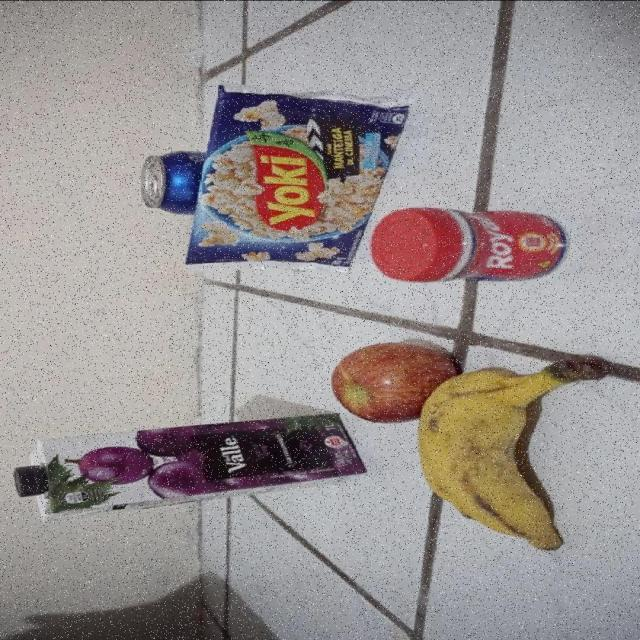Apple: (331, 341, 460, 425)
Banana: (416, 356, 614, 552)
Popcorn: (181, 83, 412, 272)
SodaCan: (140, 147, 208, 216)
Yeast: (370, 206, 570, 284)
